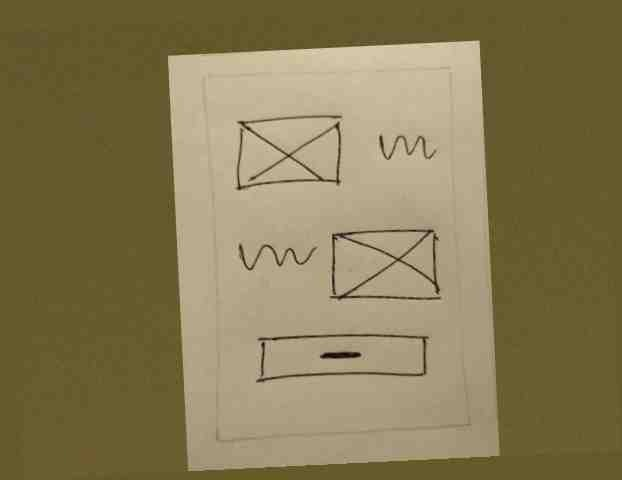button: (250, 323, 432, 392)
image: (324, 222, 446, 310), (230, 109, 346, 200)
text: (232, 234, 321, 285), (370, 125, 444, 171)
